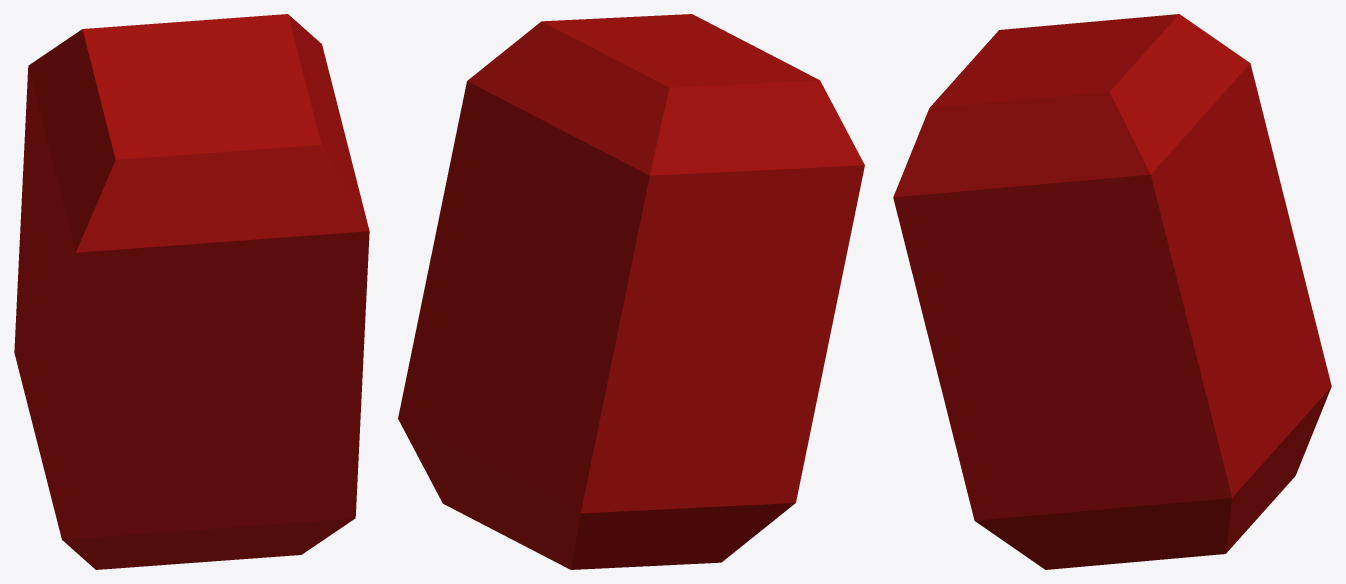
File: town_jewel0016.obj
The picture shows the model from 3 angles, left to right: view 1: azimuth 30°, elevation 25°; view 2: azimuth 150°, elevation 25°; view 3: azimuth 270°, elevation 25°; orthographic projection. The views are drawn at different scales.
Parts seen in each view (by area): view 1: RedJewel; view 2: RedJewel; view 3: RedJewel.
Part boxes in pixels (x1=…): RedJewel: x1=14, y1=14, x2=369, y2=569; RedJewel: x1=398, y1=14, x2=864, y2=569; RedJewel: x1=893, y1=14, x2=1331, y2=569.
Bounding box in the file's own units: 0.8879 × 1.21 × 0.9889.
